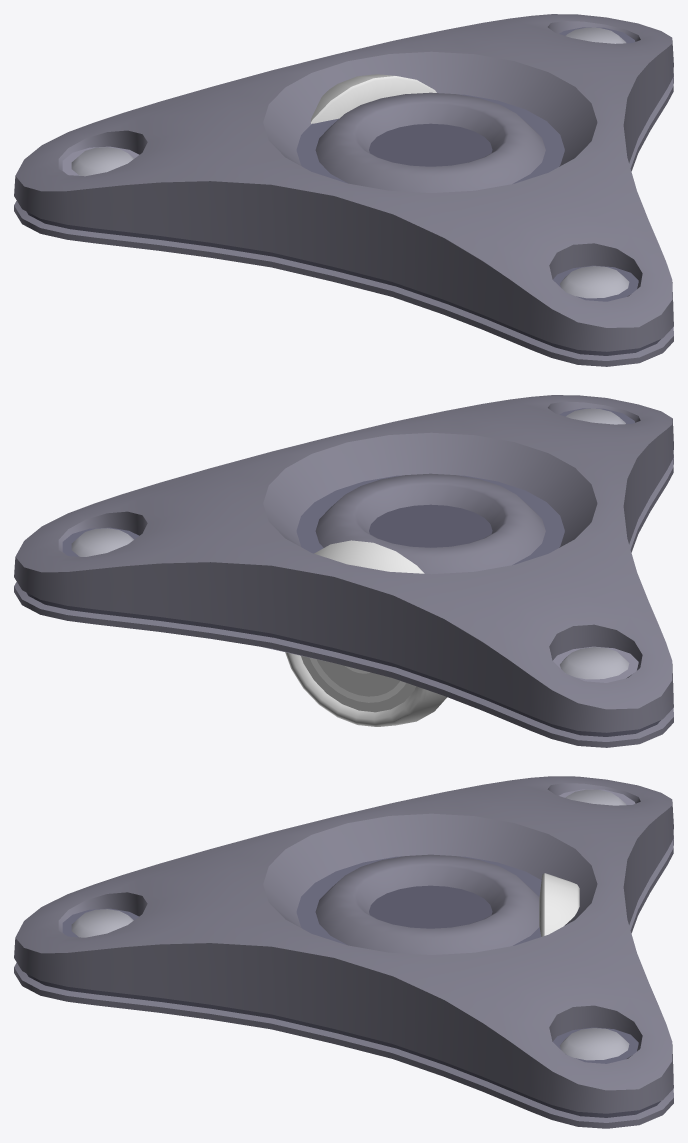
The model's file is SM_powerButton.fbx.
3 renders of one model, top to bottom at view 1: azimuth 30°, elevation 25°; view 2: azimuth 150°, elevation 25°; view 3: azimuth 270°, elevation 25°, orthographic.
Visible parts, largest first — view 1: SM_buttonBase, SM_buttonBaseGlow, SM_powerButton; view 2: SM_buttonBase, SM_powerButton, SM_buttonBaseGlow, SM_powerButtonGlow; view 3: SM_buttonBase, SM_buttonBaseGlow, SM_powerButton.
Part boxes in pixels (<box>): SM_buttonBase: <box>14,14,673,366</box>; SM_buttonBaseGlow: <box>62,27,638,301</box>; SM_powerButton: <box>310,74,436,123</box>; SM_buttonBase: <box>14,395,673,747</box>; SM_powerButton: <box>285,540,447,726</box>; SM_buttonBaseGlow: <box>62,408,638,682</box>; SM_powerButtonGlow: <box>309,657,405,702</box>; SM_buttonBase: <box>14,776,673,1128</box>; SM_buttonBaseGlow: <box>62,789,638,1063</box>; SM_powerButton: <box>539,873,579,936</box>.
Size of the model in its own units: 13.3 by 3.58 by 11.86.
